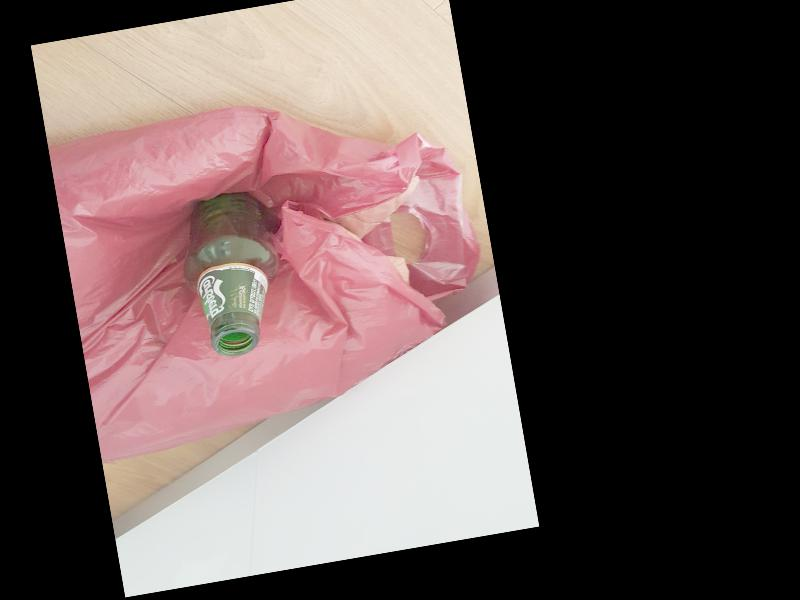Beer: (173, 185, 292, 360)
